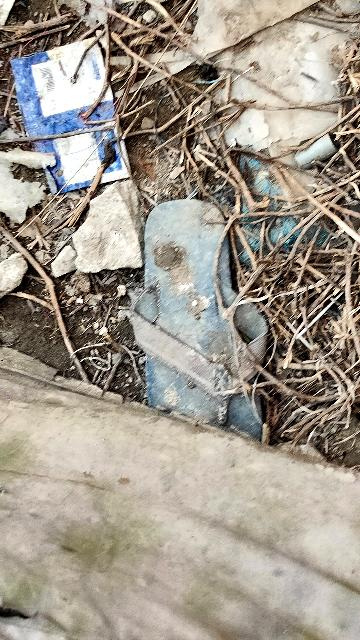sandal: (125, 200, 267, 444)
